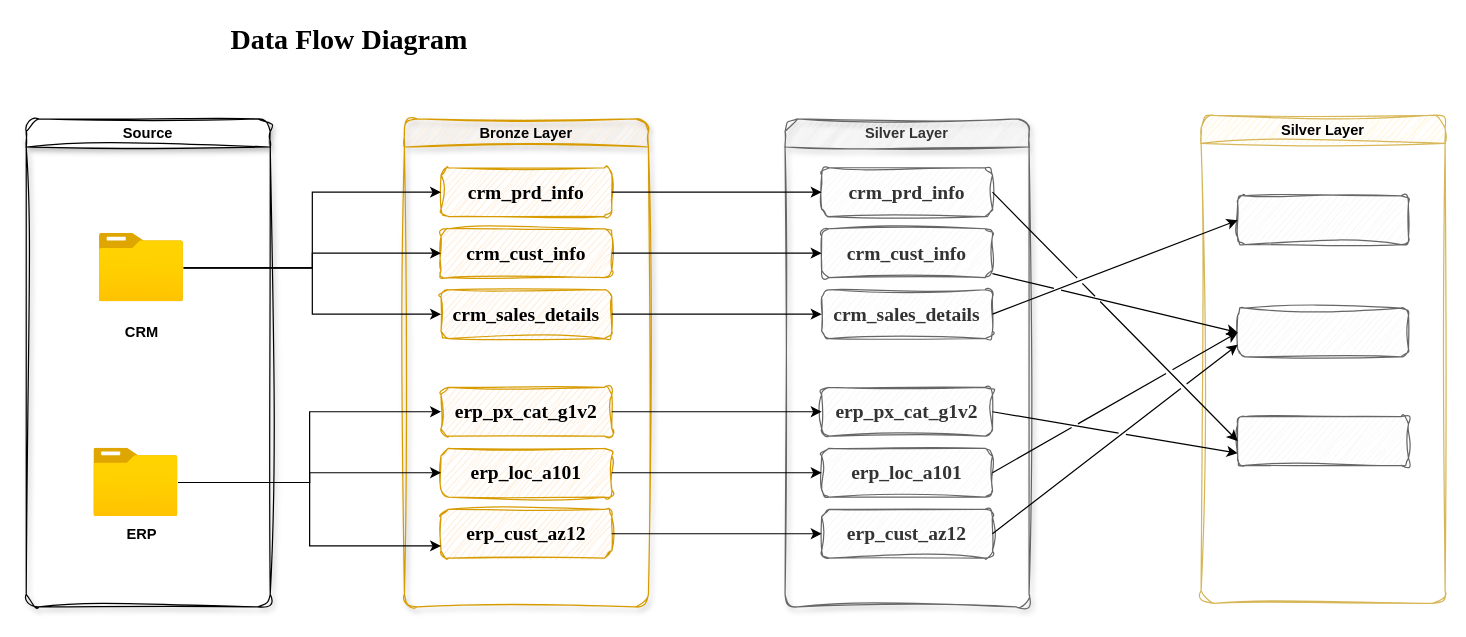
This 1466x637 diagram has some shape labels left out. The centre of each missing label's shape, as x and y in pixels:
dm_customer: pixel 1322 332
dm_product: pixel 1322 440
fact_sales: pixel 1322 220
